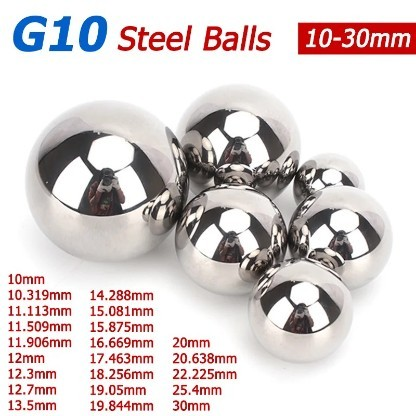ironball: (24, 99, 189, 262), (175, 82, 301, 200), (174, 182, 287, 295), (247, 256, 353, 362), (287, 185, 393, 290), (292, 151, 365, 205)
